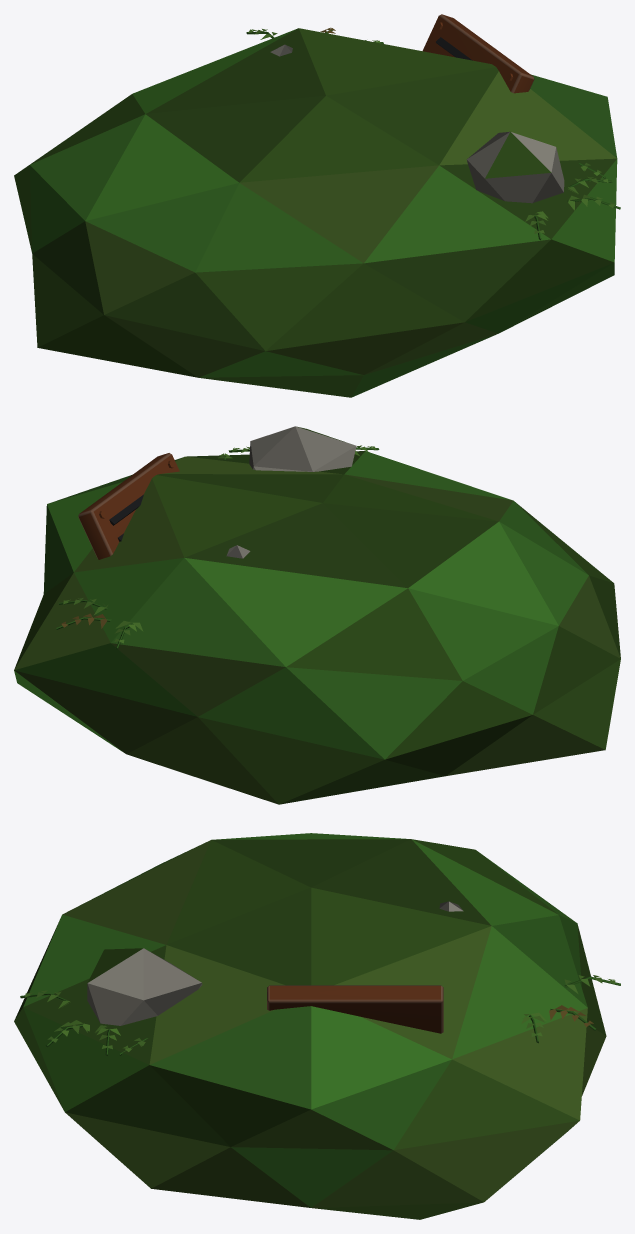
File: moss_mound.glb
3 renders of one model, top to bottom at view 1: azimuth 30°, elevation 25°; view 2: azimuth 150°, elevation 25°; view 3: azimuth 270°, elevation 25°, orthographic. The views are drawn at different scales.
Parts seen in each view (by area): view 1: Mesh; view 2: Mesh; view 3: Mesh.
Part boxes in pixels (box(x1,y1,x2,y2)): Mesh: box(14, 14, 620, 397); Mesh: box(14, 426, 620, 804); Mesh: box(14, 833, 620, 1219).
Size of the model in its own units: 3.19 by 1.31 by 2.75.
